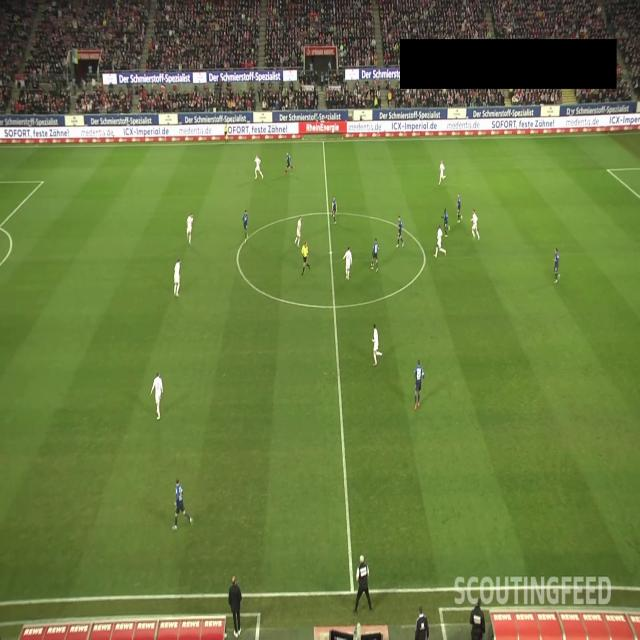ball: (371, 262, 374, 268)
player: (172, 477, 193, 531), (150, 371, 164, 422), (371, 323, 384, 368), (414, 359, 424, 410), (434, 224, 447, 258), (342, 246, 352, 280), (470, 208, 480, 241), (441, 207, 451, 239), (294, 216, 303, 247), (174, 258, 181, 297), (371, 237, 379, 271), (396, 215, 404, 248), (553, 247, 560, 284), (186, 213, 194, 245), (254, 155, 264, 180), (242, 209, 249, 244), (284, 152, 294, 176), (456, 192, 463, 226), (438, 160, 446, 185), (332, 196, 338, 223)
referee: (302, 240, 310, 276), (223, 121, 230, 145)
